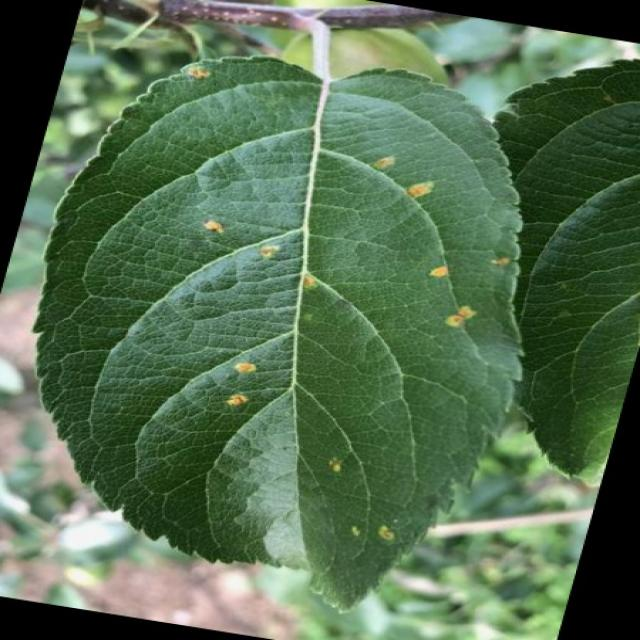Gymnosporangium_Rusts: (31, 54, 528, 612)
